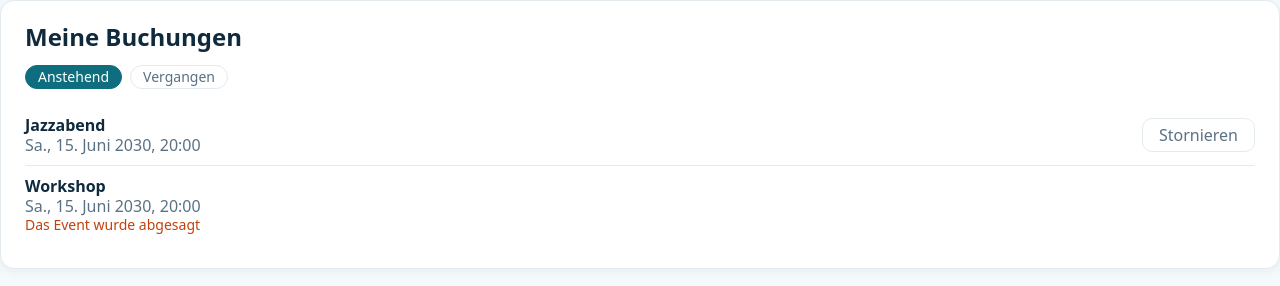
MyBookingsPage › lists bookings and removes one after cancelling
Check: the text "Das Event wurde abgesagt" is shown, box [25,218,201,232]
Click the button "Stornieren".
click(1198, 135)  # box [1142,118,1255,152]
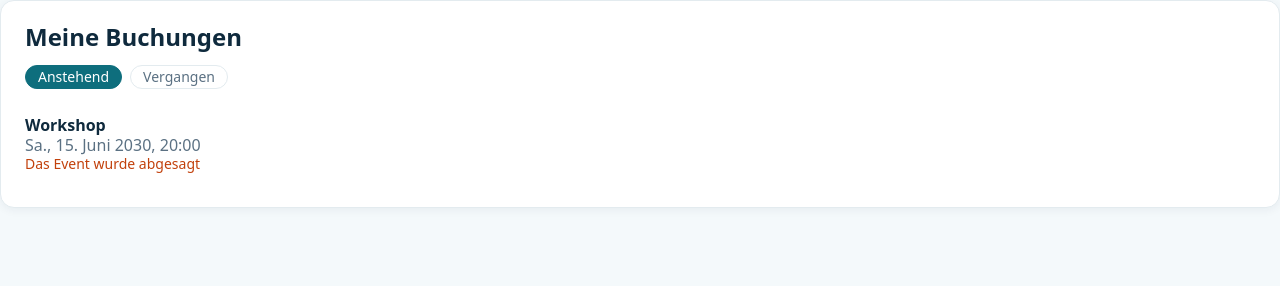
Check: the link "Workshop" is shown, box [25,114,106,136]
Check: the link "Jazzabend" is gone
